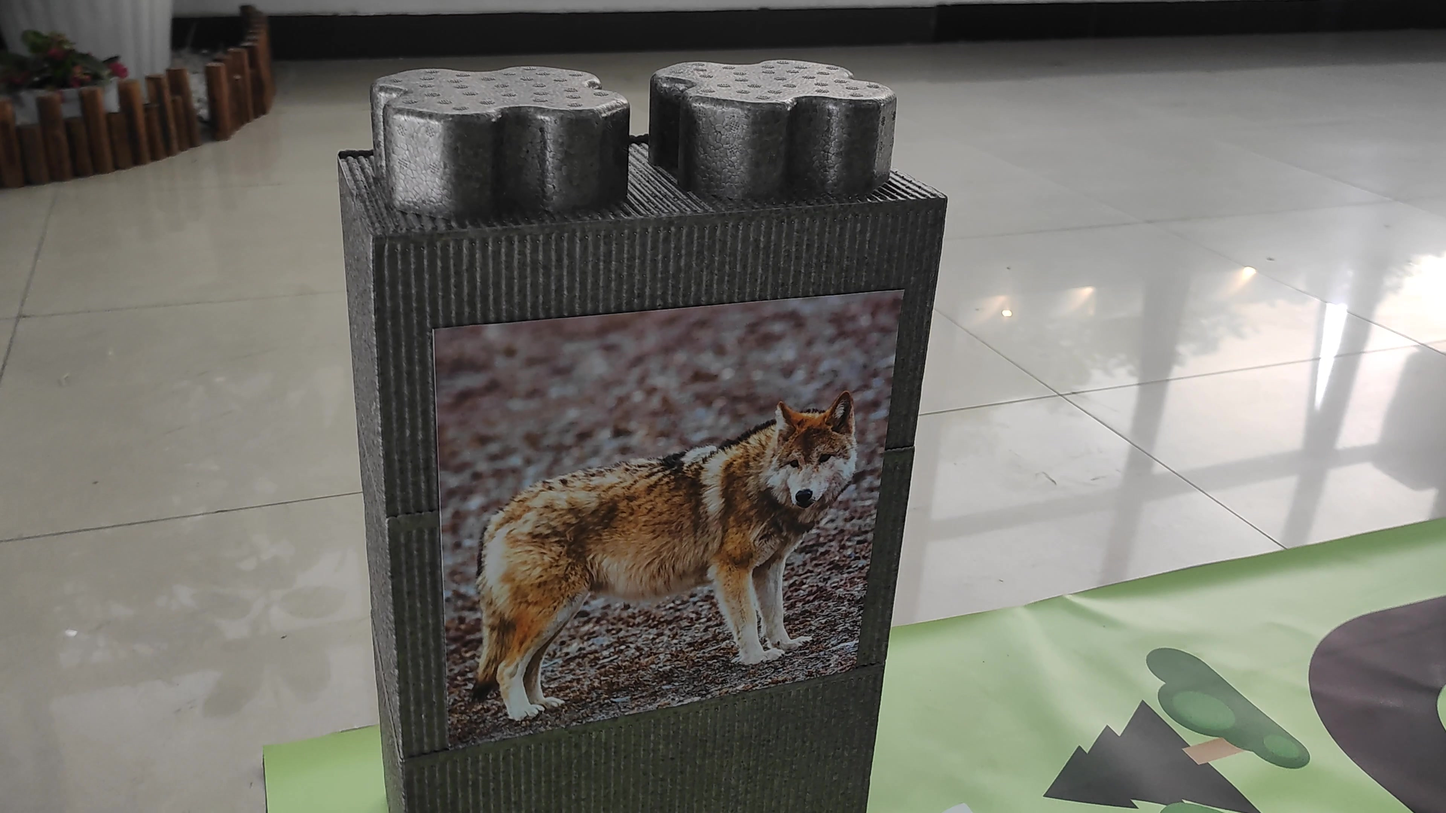wolf: (442, 343, 852, 702)
